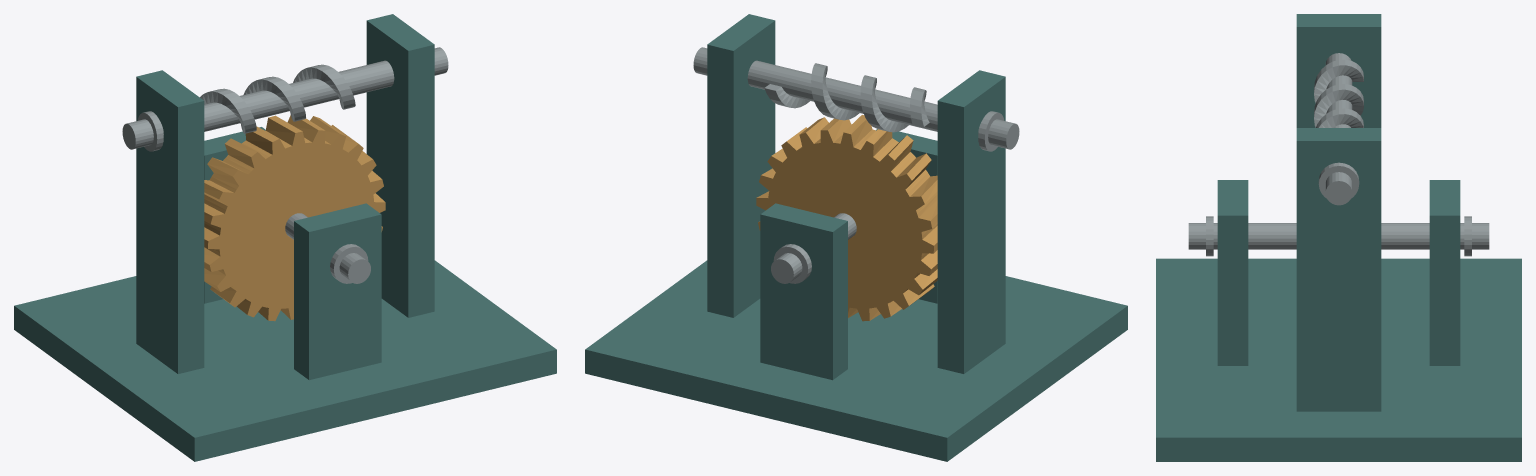
3 views of the same model, side by side, from view 1: azimuth 30°, elevation 25°; view 2: azimuth 150°, elevation 25°; view 3: azimuth 270°, elevation 25° (orthographic).
Parts seen in each view (by area): view 1: WholeGroundedDisplayBase, WholeObliqueToothedWheelAndBore, LeftWormWholeBoredBearing, RightWormWholeBoredBearing, FrontWheelWholeBoredBearing, WholeHorizontalWormShaft, WholeThreeTurnWormFlight, RearWheelWholeBoredBearing, WholePerpendicularWheelShaft, FrontWheelFixedStop; view 2: WholeGroundedDisplayBase, WholeObliqueToothedWheelAndBore, LeftWormWholeBoredBearing, RightWormWholeBoredBearing, RearWheelWholeBoredBearing, WholeHorizontalWormShaft, WholeThreeTurnWormFlight, FrontWheelWholeBoredBearing, WholePerpendicularWheelShaft, RearWheelFixedStop; view 3: WholeGroundedDisplayBase, RightWormWholeBoredBearing, LeftWormWholeBoredBearing, FrontWheelWholeBoredBearing, RearWheelWholeBoredBearing, WholePerpendicularWheelShaft, WholeThreeTurnWormFlight, WholeHorizontalWormShaft, RightWormFixedStop.
Boxes of the visible parts, x1,y1,x2,y2 form: WholeGroundedDisplayBase: [14, 260, 556, 461]; WholeObliqueToothedWheelAndBore: [204, 115, 385, 321]; LeftWormWholeBoredBearing: [136, 70, 204, 373]; RightWormWholeBoredBearing: [366, 14, 434, 317]; FrontWheelWholeBoredBearing: [294, 203, 381, 380]; WholeHorizontalWormShaft: [122, 47, 448, 149]; WholeThreeTurnWormFlight: [200, 64, 355, 133]; RearWheelWholeBoredBearing: [204, 127, 265, 303]; WholePerpendicularWheelShaft: [285, 213, 370, 283]; FrontWheelFixedStop: [330, 244, 368, 283]; WholeGroundedDisplayBase: [585, 260, 1127, 461]; WholeObliqueToothedWheelAndBore: [756, 115, 937, 321]; LeftWormWholeBoredBearing: [937, 70, 1005, 373]; RightWormWholeBoredBearing: [707, 14, 775, 317]; RearWheelWholeBoredBearing: [760, 203, 847, 380]; WholeHorizontalWormShaft: [693, 47, 1019, 149]; WholeThreeTurnWormFlight: [764, 63, 929, 132]; FrontWheelWholeBoredBearing: [876, 129, 937, 303]; WholePerpendicularWheelShaft: [771, 213, 856, 283]; RearWheelFixedStop: [773, 244, 811, 283]; WholeGroundedDisplayBase: [1156, 258, 1521, 461]; RightWormWholeBoredBearing: [1296, 128, 1381, 411]; LeftWormWholeBoredBearing: [1296, 14, 1381, 127]; FrontWheelWholeBoredBearing: [1217, 180, 1248, 365]; RearWheelWholeBoredBearing: [1429, 180, 1460, 365]; WholePerpendicularWheelShaft: [1188, 223, 1489, 249]; WholeThreeTurnWormFlight: [1314, 59, 1363, 127]; WholeHorizontalWormShaft: [1325, 53, 1352, 205]; RightWormFixedStop: [1318, 162, 1359, 198].
Size of the model in its own units: 2.2 by 1.69 by 1.9.
